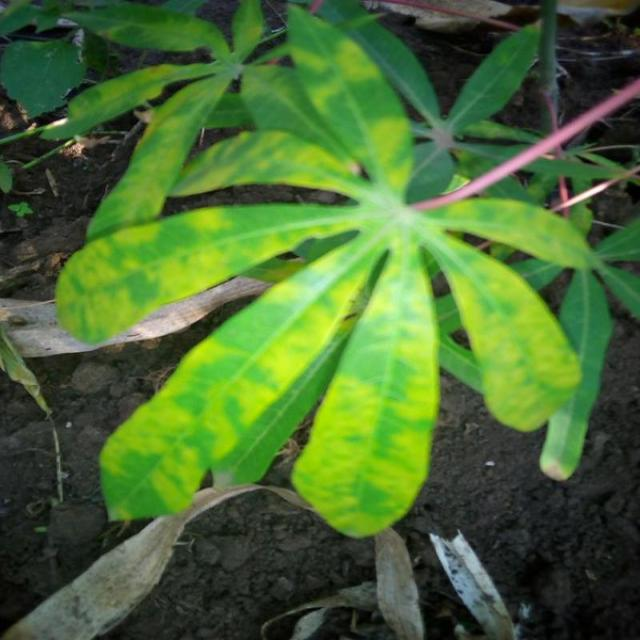cassava leaf: (51, 1, 616, 539)
